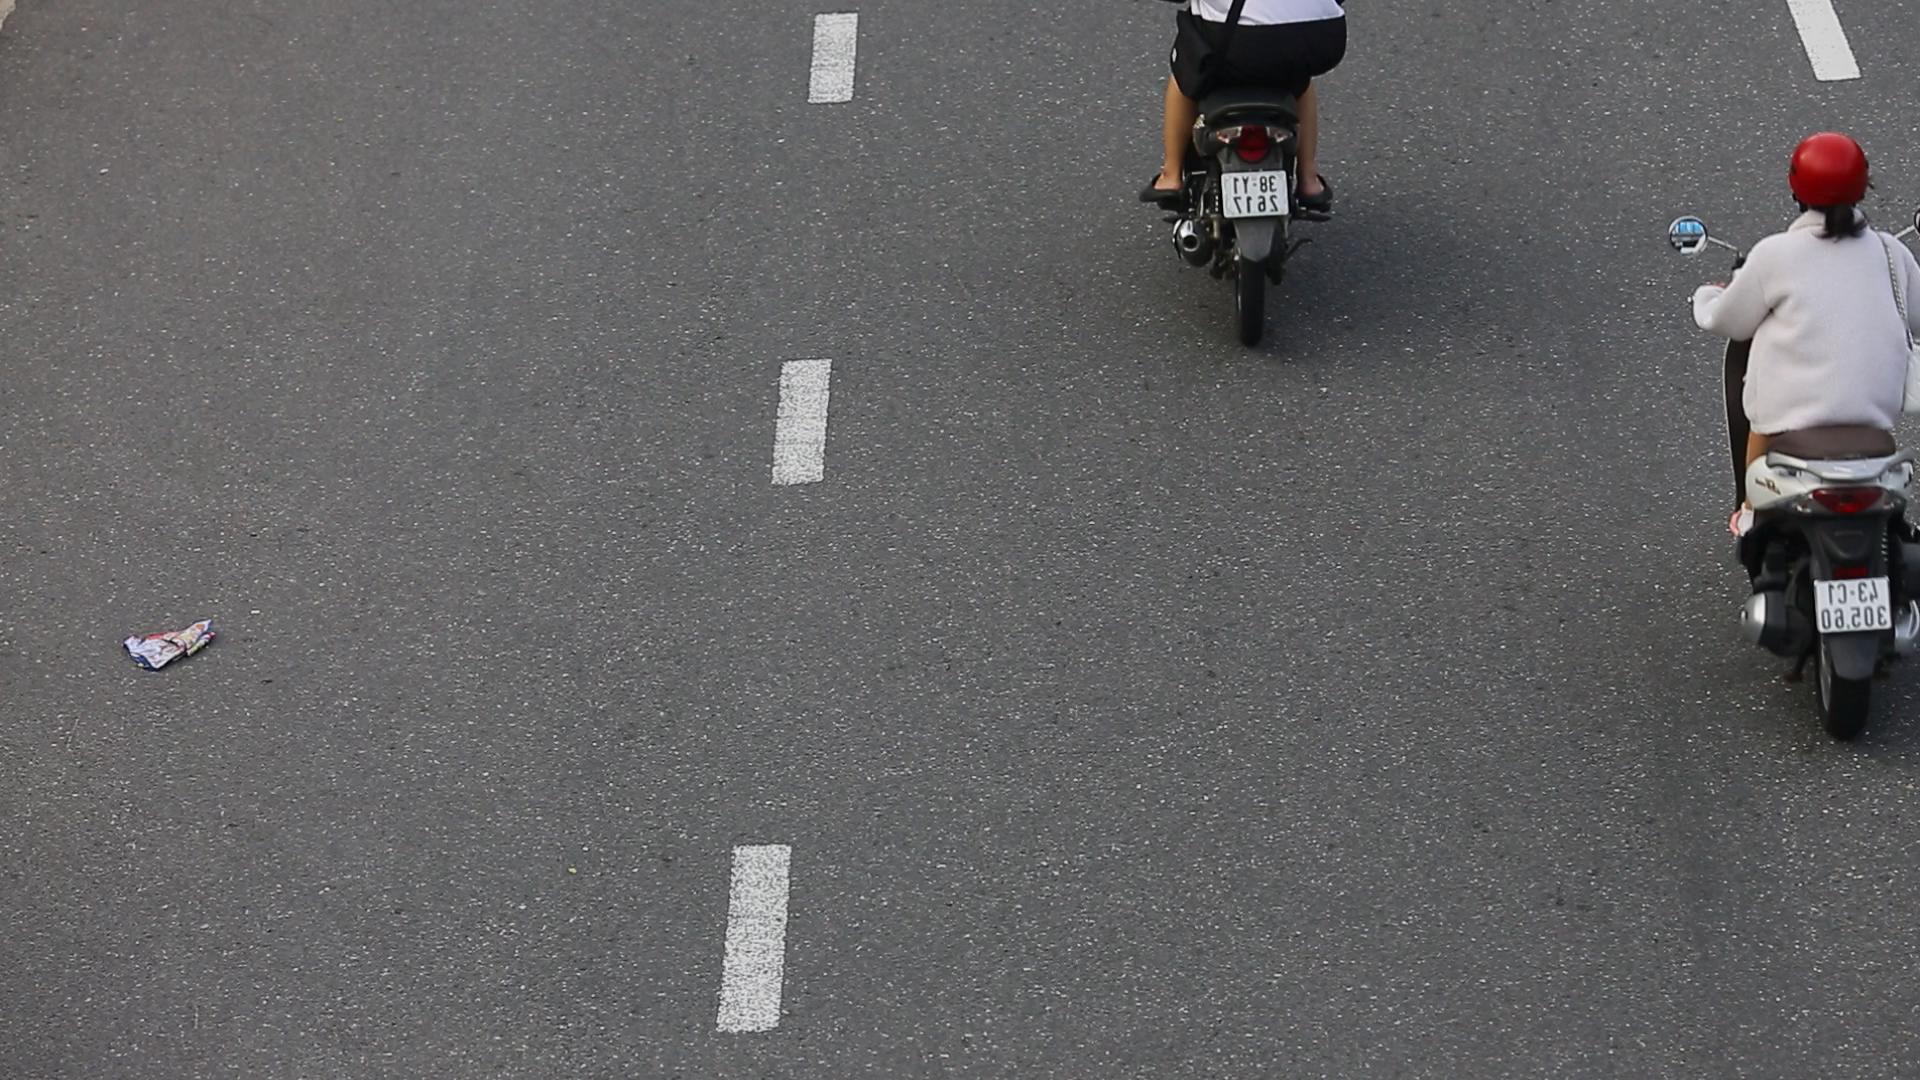motobike: (1655, 120, 1920, 742)
